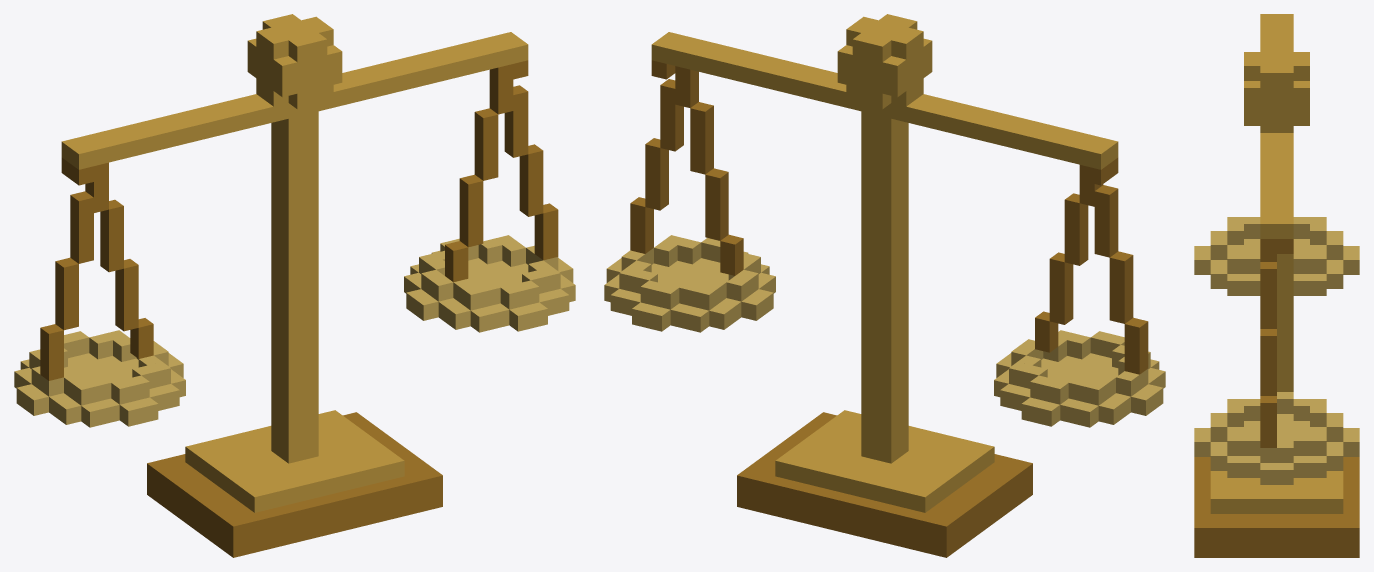
File: balance-scale.glb
The picture shows the model from 3 angles, left to right: view 1: azimuth 30°, elevation 25°; view 2: azimuth 150°, elevation 25°; view 3: azimuth 270°, elevation 25°; orthographic projection. The views are drawn at different scales.
Parts seen in each view (by area): view 1: prop; view 2: prop; view 3: prop.
Boxes of the visible parts, x1,y1,x2,y2 form: prop: (14, 14, 575, 557); prop: (604, 14, 1165, 557); prop: (1194, 14, 1359, 557).
Size of the model in its own units: 19.2 by 16 by 5.33.
